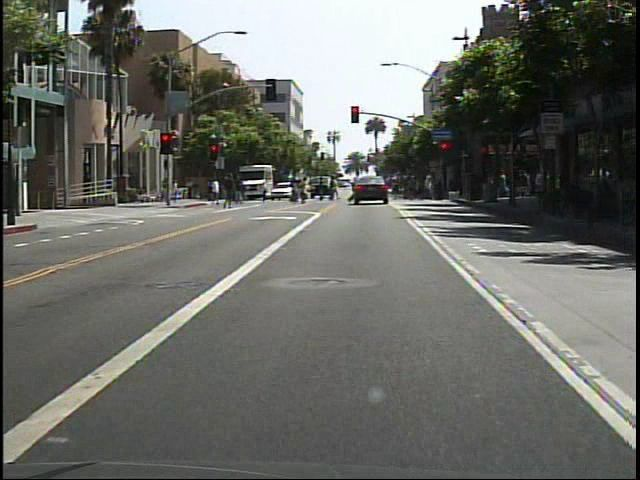person: (220, 173, 240, 210), (345, 168, 362, 207), (297, 173, 313, 206), (206, 178, 223, 209)
